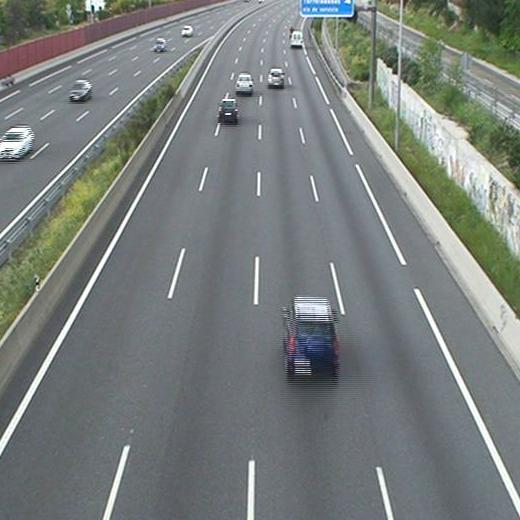car: (281, 297, 341, 381), (217, 99, 239, 125), (233, 73, 253, 95), (266, 68, 285, 87)
van: (290, 30, 303, 48)
